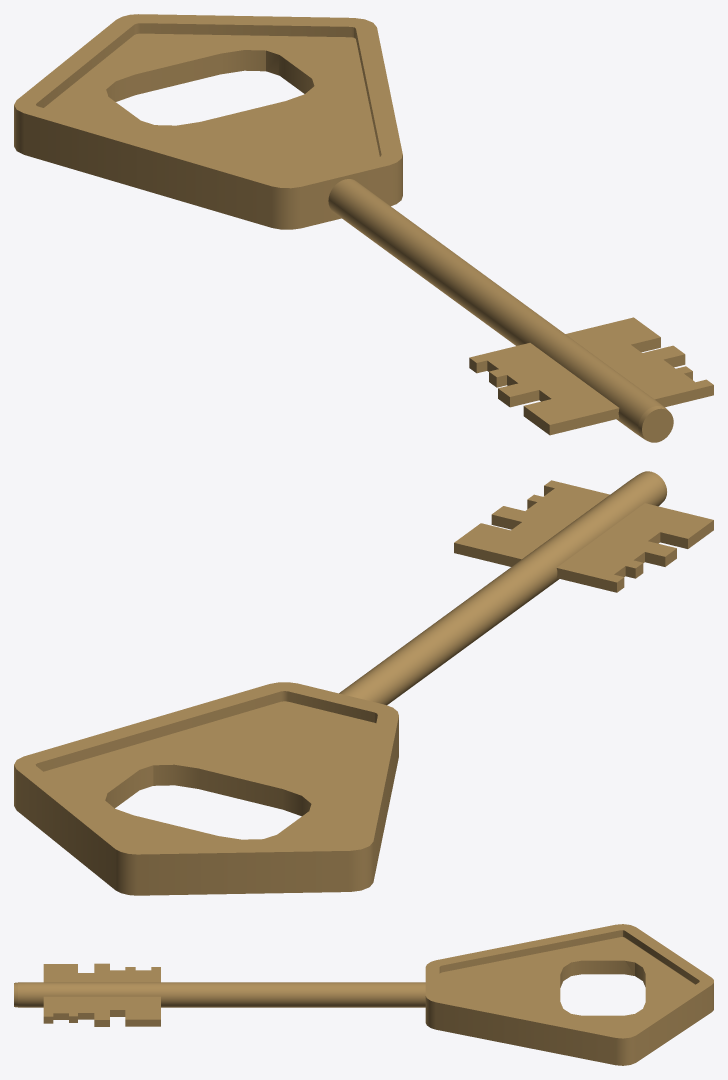
The model's file is key5.fbx.
The picture shows the model from 3 angles, top to bottom: view 1: azimuth 30°, elevation 25°; view 2: azimuth 150°, elevation 25°; view 3: azimuth 270°, elevation 25°; orthographic projection. The views are drawn at different scales.
Visible parts, largest first — view 1: key5; view 2: key5; view 3: key5.
Boxes of the visible parts, left/top/right/bottom form: key5: left=14, top=14, right=713, bottom=442; key5: left=14, top=471, right=713, bottom=895; key5: left=14, top=924, right=713, bottom=1065.
Size of the model in its own units: 11.84 by 1.32 by 30.61.
